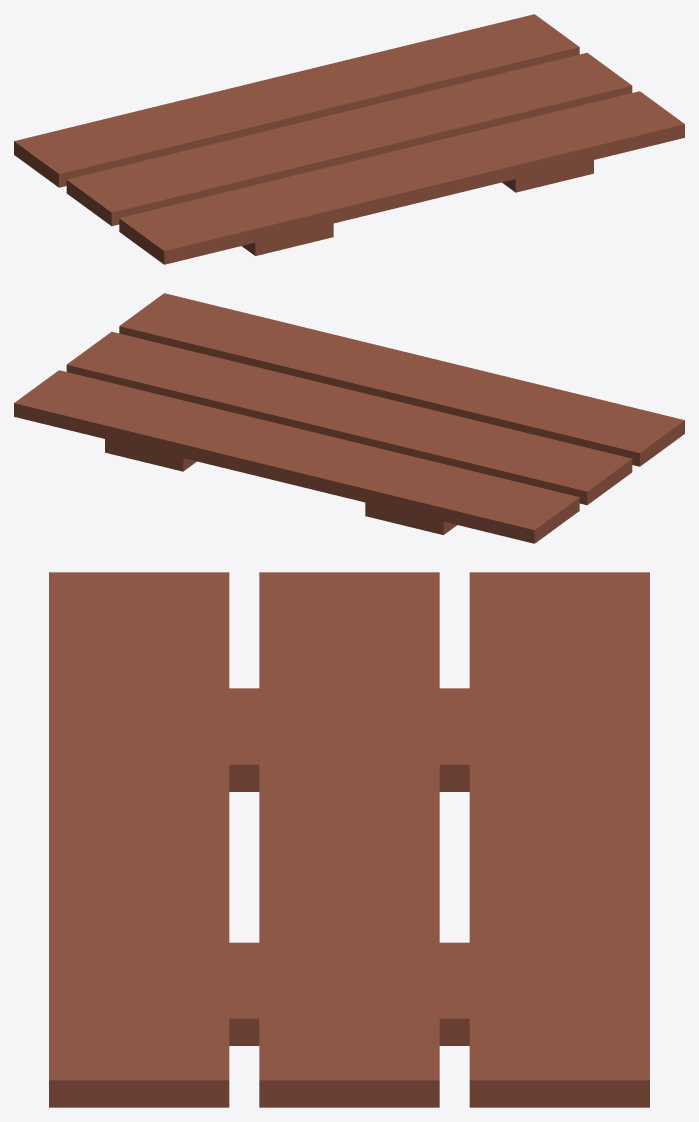
Rendered from scaffold_small_low_long 1.fbx.
3 renders of one model, top to bottom at view 1: azimuth 30°, elevation 25°; view 2: azimuth 150°, elevation 25°; view 3: azimuth 270°, elevation 25°, orthographic. The views are drawn at different scales.
Parts seen in each view (by area): view 1: scaffold_small_low_long; view 2: scaffold_small_low_long; view 3: scaffold_small_low_long.
Part boxes in pixels (x1,y1,x2,y2): scaffold_small_low_long: [14, 14, 684, 264]; scaffold_small_low_long: [14, 293, 684, 543]; scaffold_small_low_long: [49, 572, 649, 1107].
Bounding box in the file's own units: 400 × 20 × 200.
